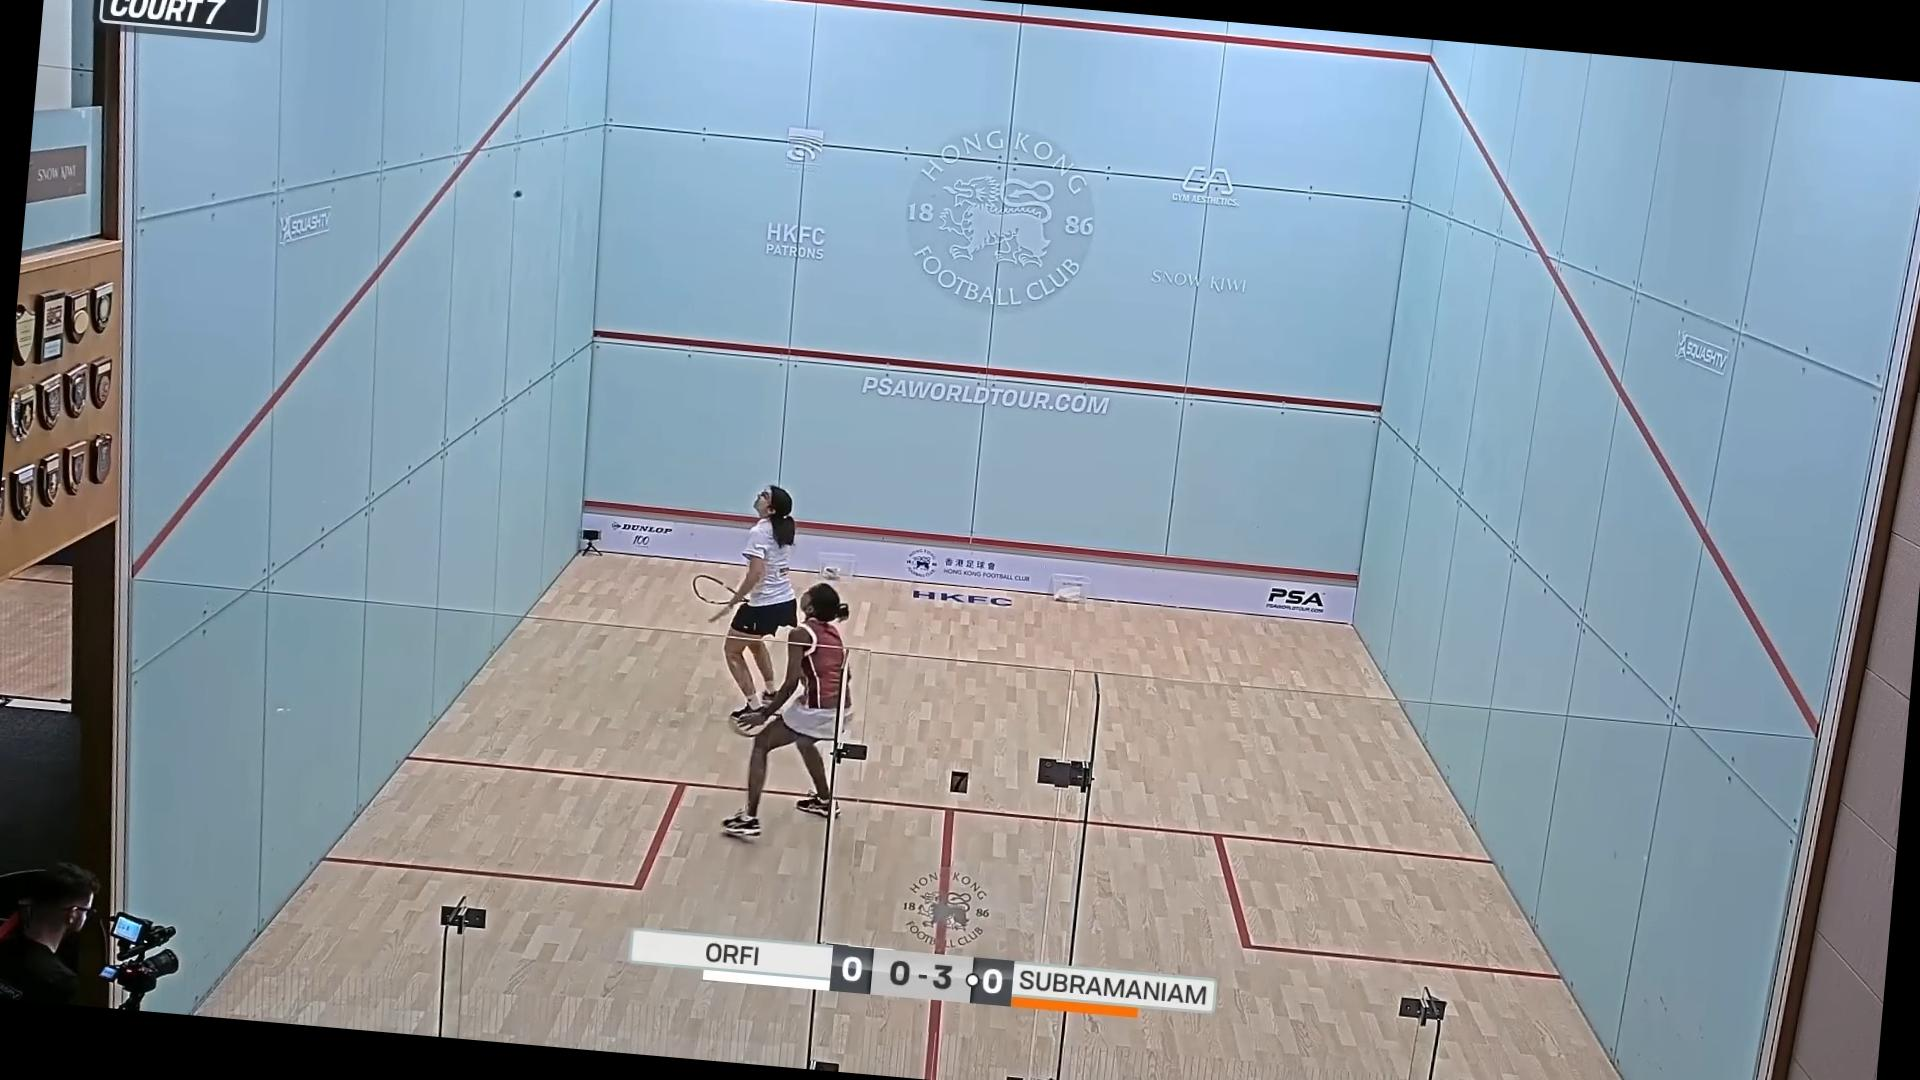Squash-Ball: (501, 179, 531, 210)
